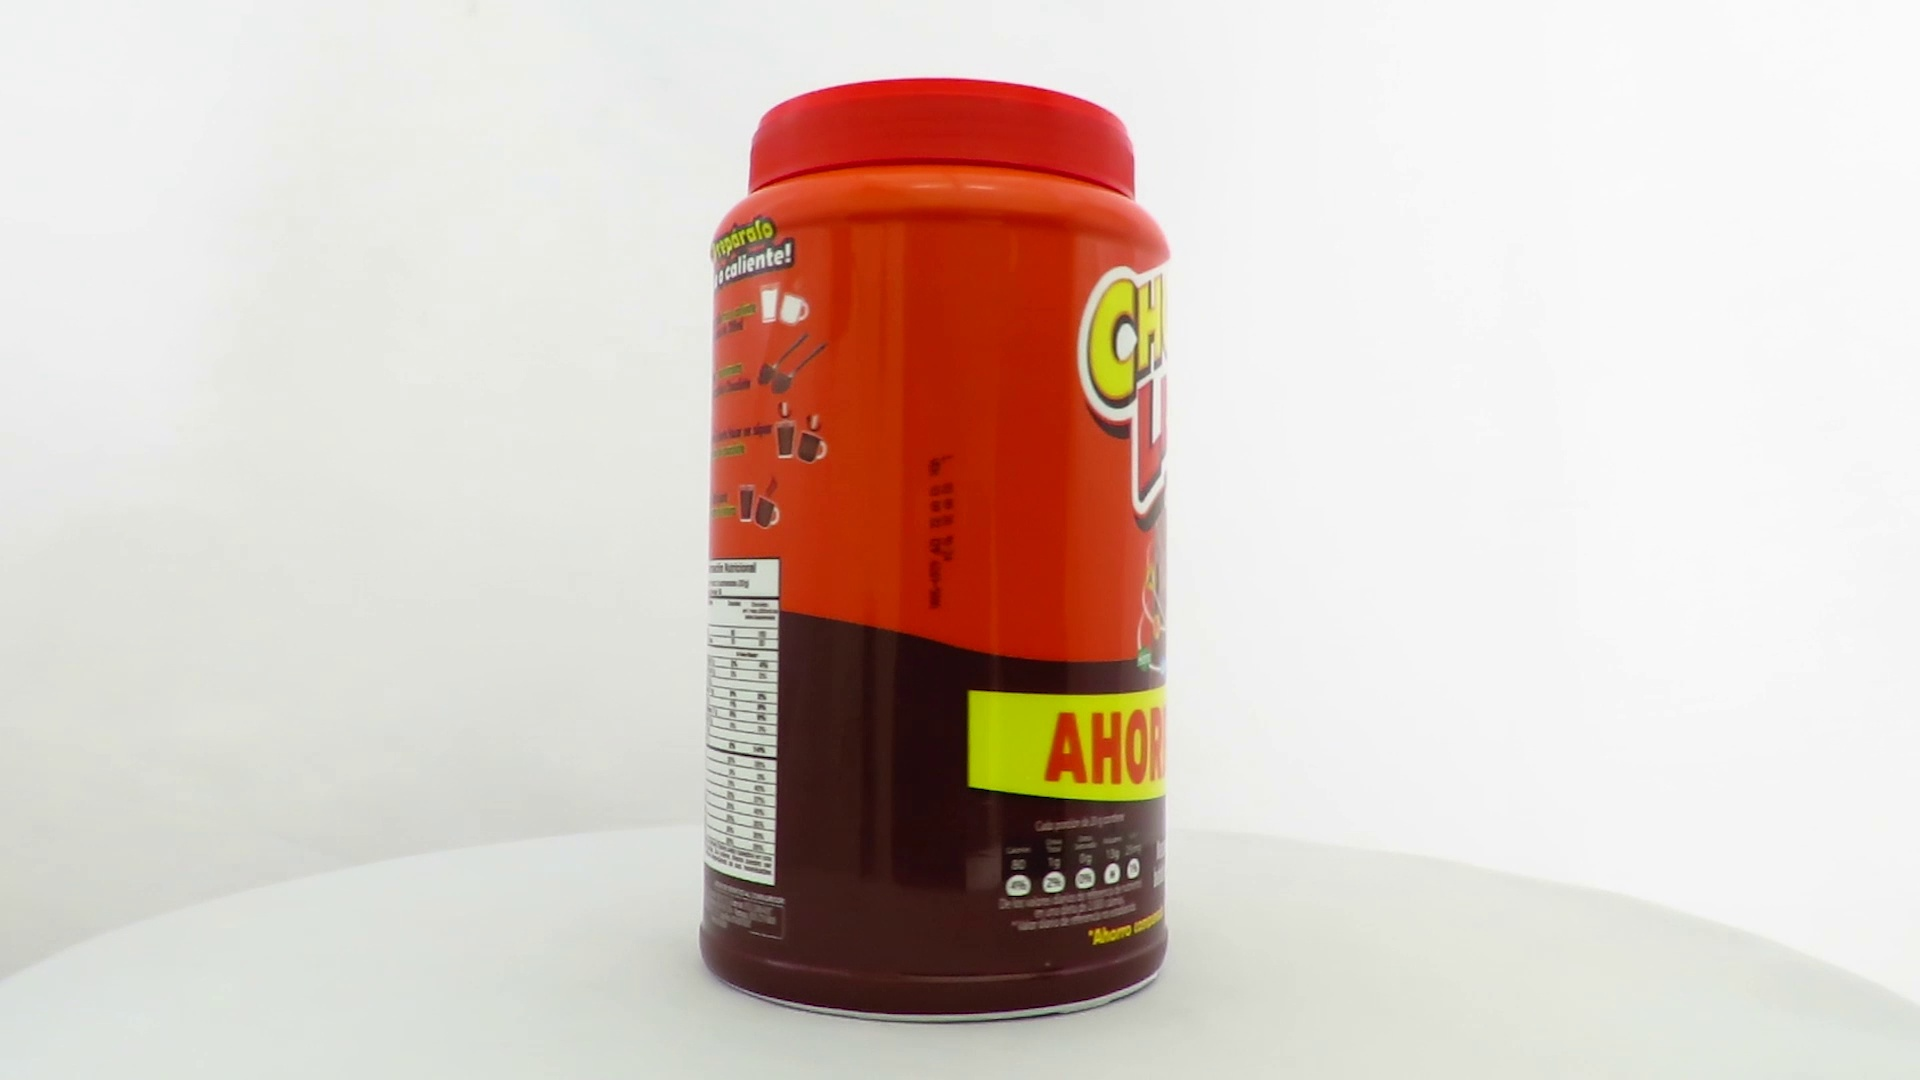COL0170103TRR00100: (694, 73, 1176, 1031)
